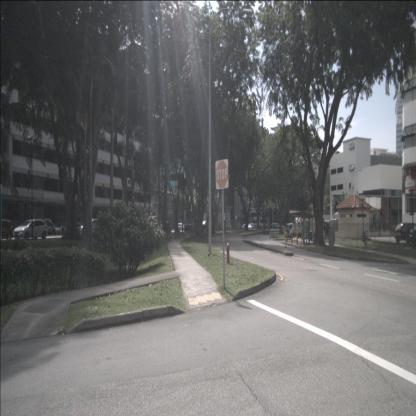vehicle-car: (13, 219, 48, 240), (394, 220, 415, 246), (80, 218, 103, 237), (34, 218, 53, 235), (0, 219, 14, 241), (47, 223, 62, 235), (409, 226, 416, 247), (74, 223, 84, 233), (176, 222, 186, 232), (241, 223, 252, 230)
vehicle-truck: (285, 223, 302, 238)
